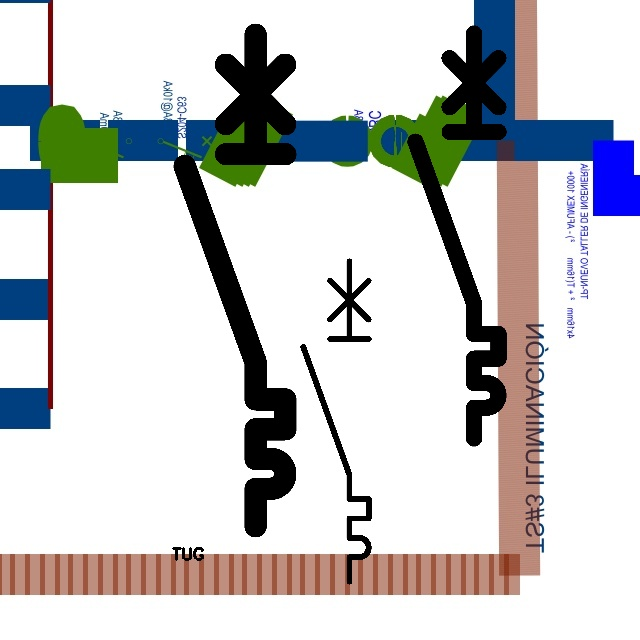interruptor_termomagnetico: (172, 22, 298, 539), (405, 23, 509, 449), (295, 253, 377, 590)
